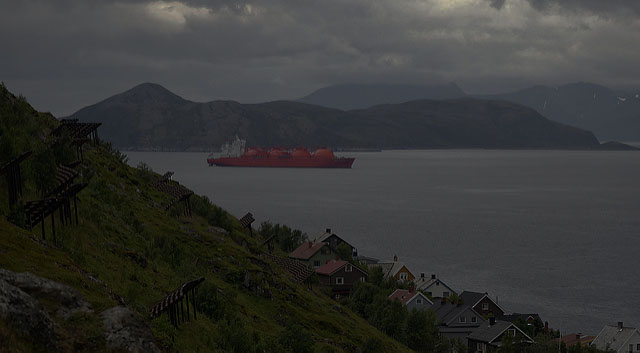LNG_ship: (205, 134, 358, 171)
